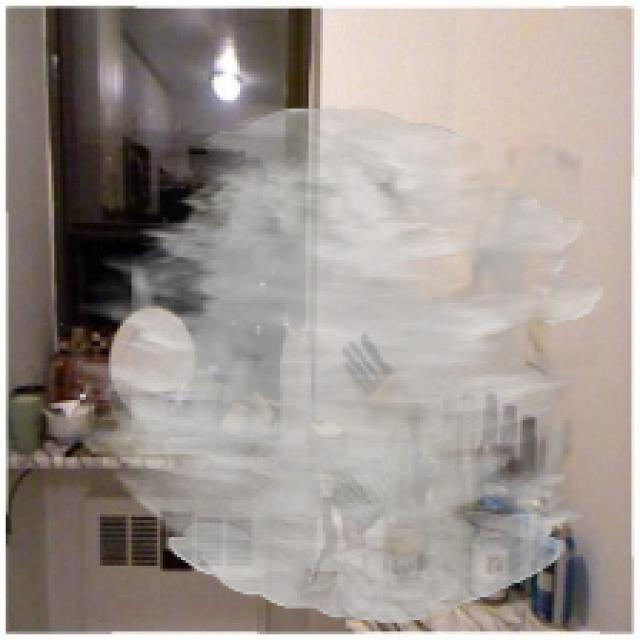smoke: (69, 106, 606, 623)
